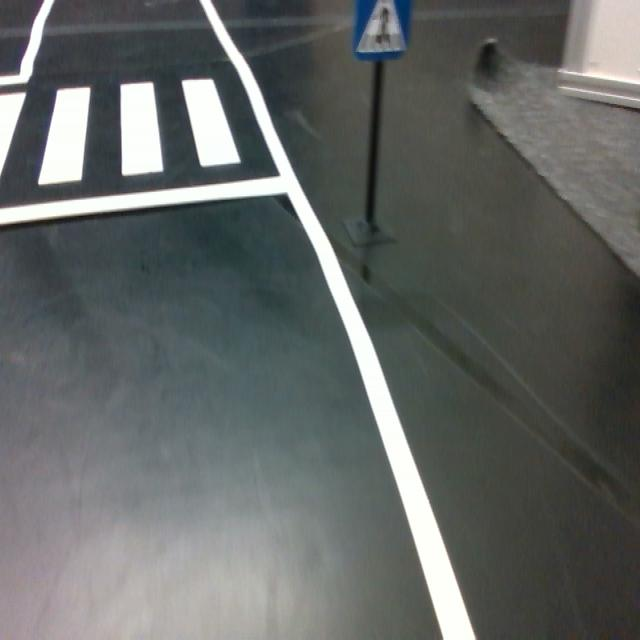crosswalk-sign: (352, 0, 411, 61)
